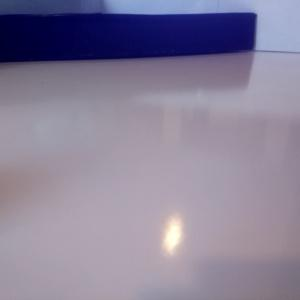zone: (1, 12, 257, 63)
